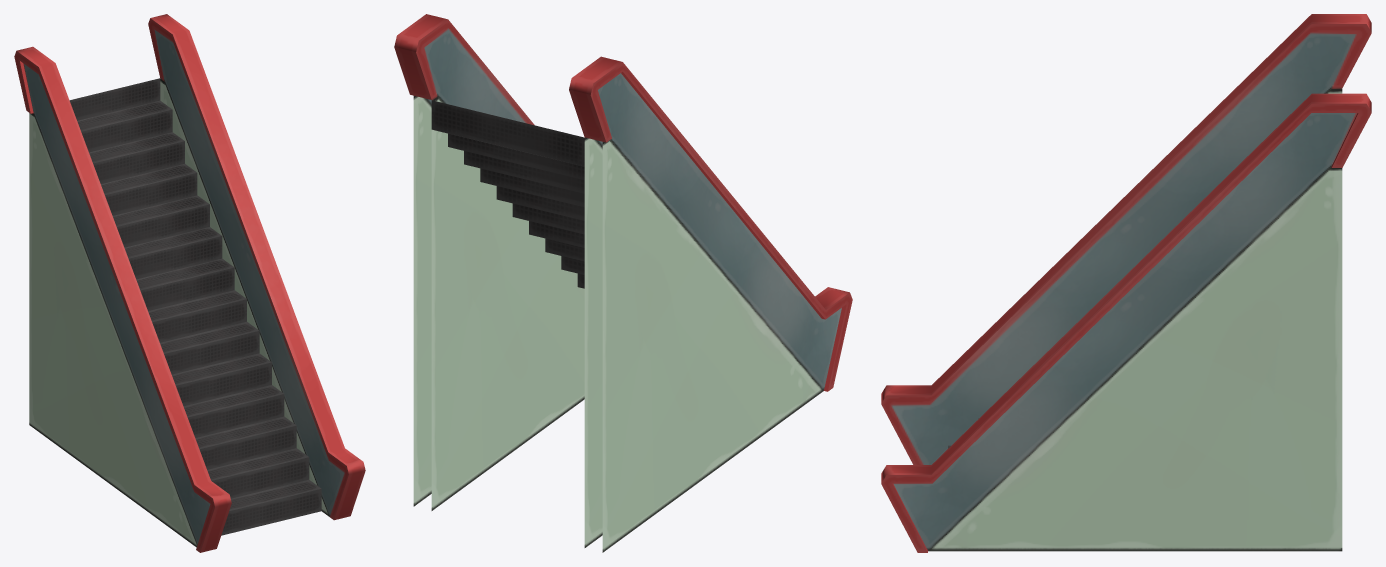
File: escalator jeu.fbx
The picture shows the model from 3 angles, left to right: view 1: azimuth 30°, elevation 25°; view 2: azimuth 150°, elevation 25°; view 3: azimuth 270°, elevation 25°; orthographic projection. The views are drawn at different scales.
Visible parts, largest first — view 1: escalator; view 2: escalator; view 3: escalator.
Boxes of the visible parts, left/top/right/bottom form: escalator: left=14, top=14, right=365, bottom=552; escalator: left=394, top=14, right=852, bottom=552; escalator: left=881, top=14, right=1371, bottom=552.
Size of the model in its own units: 100 by 233 by 231.
